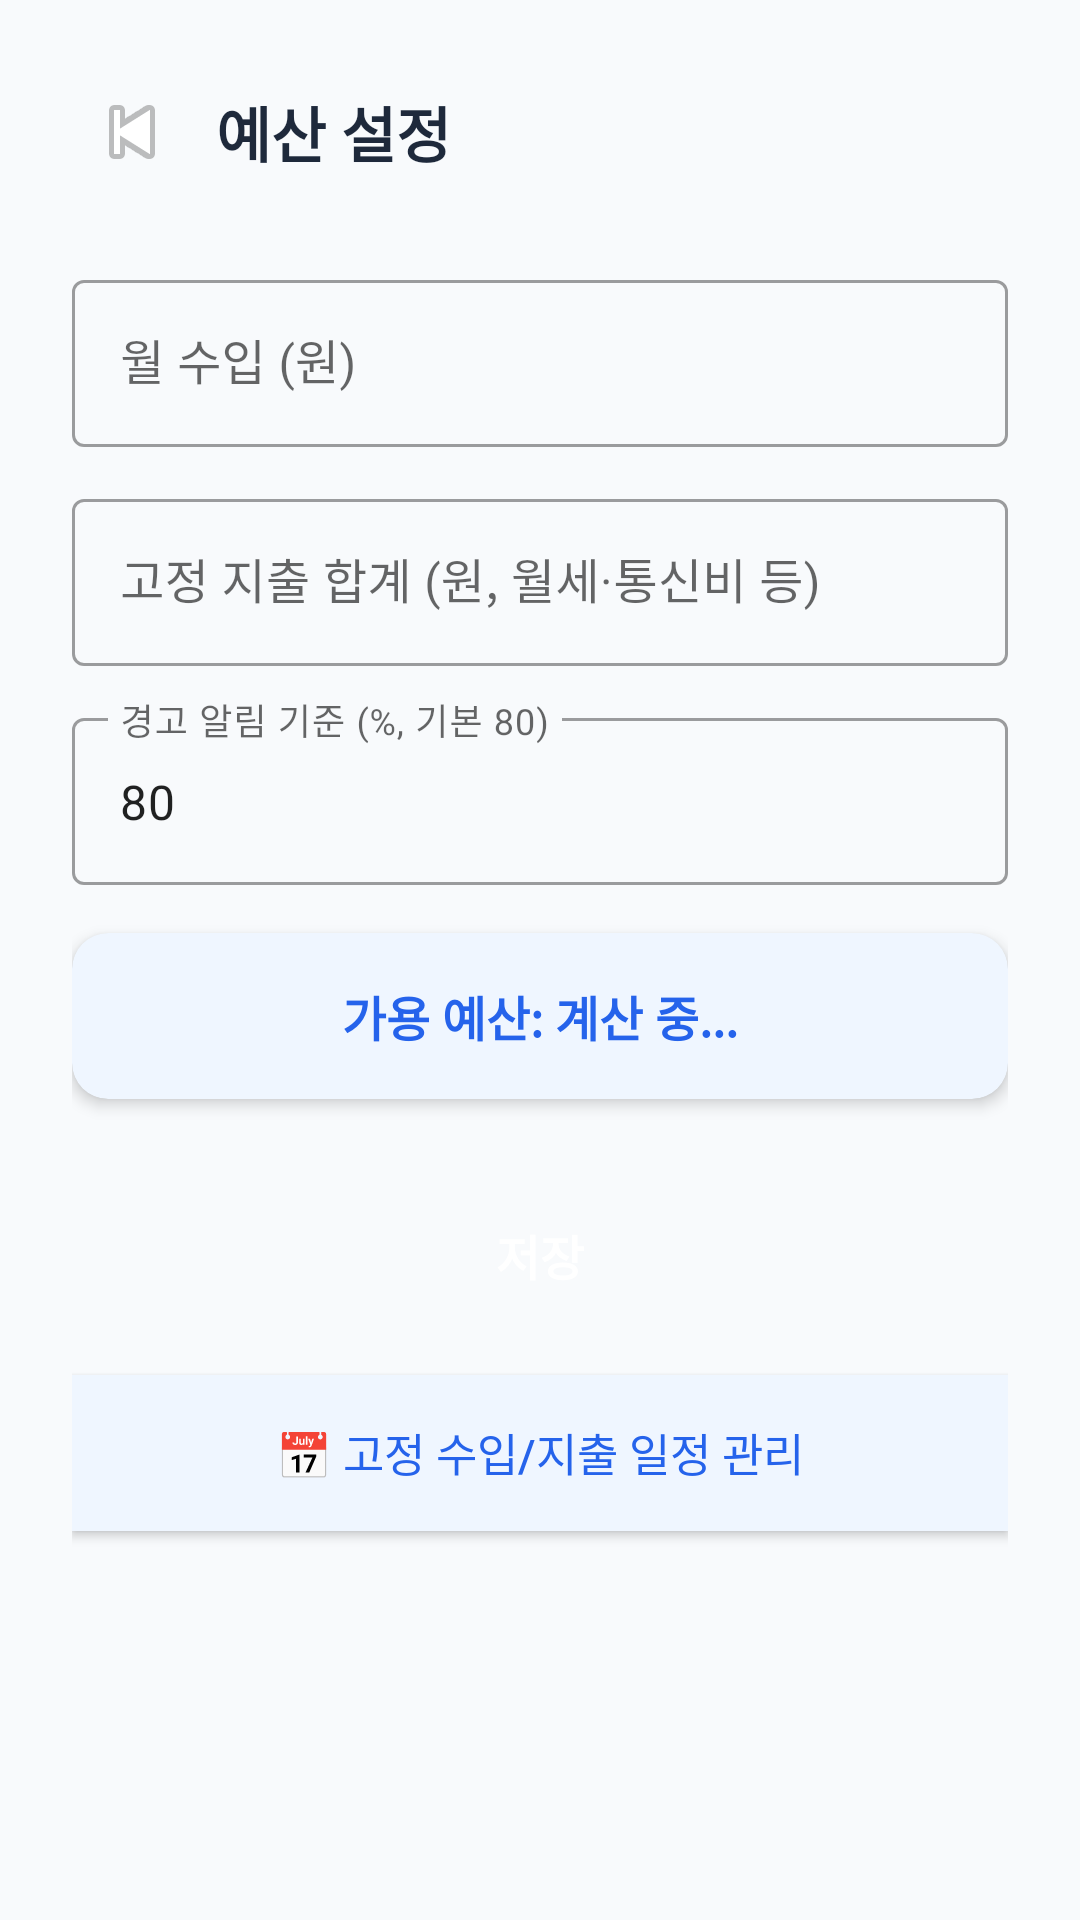

Icons on this 1080 x 1920 Android screen, each with its box as (x1, y1, x2, y2):
previous: (109, 105, 155, 159)
